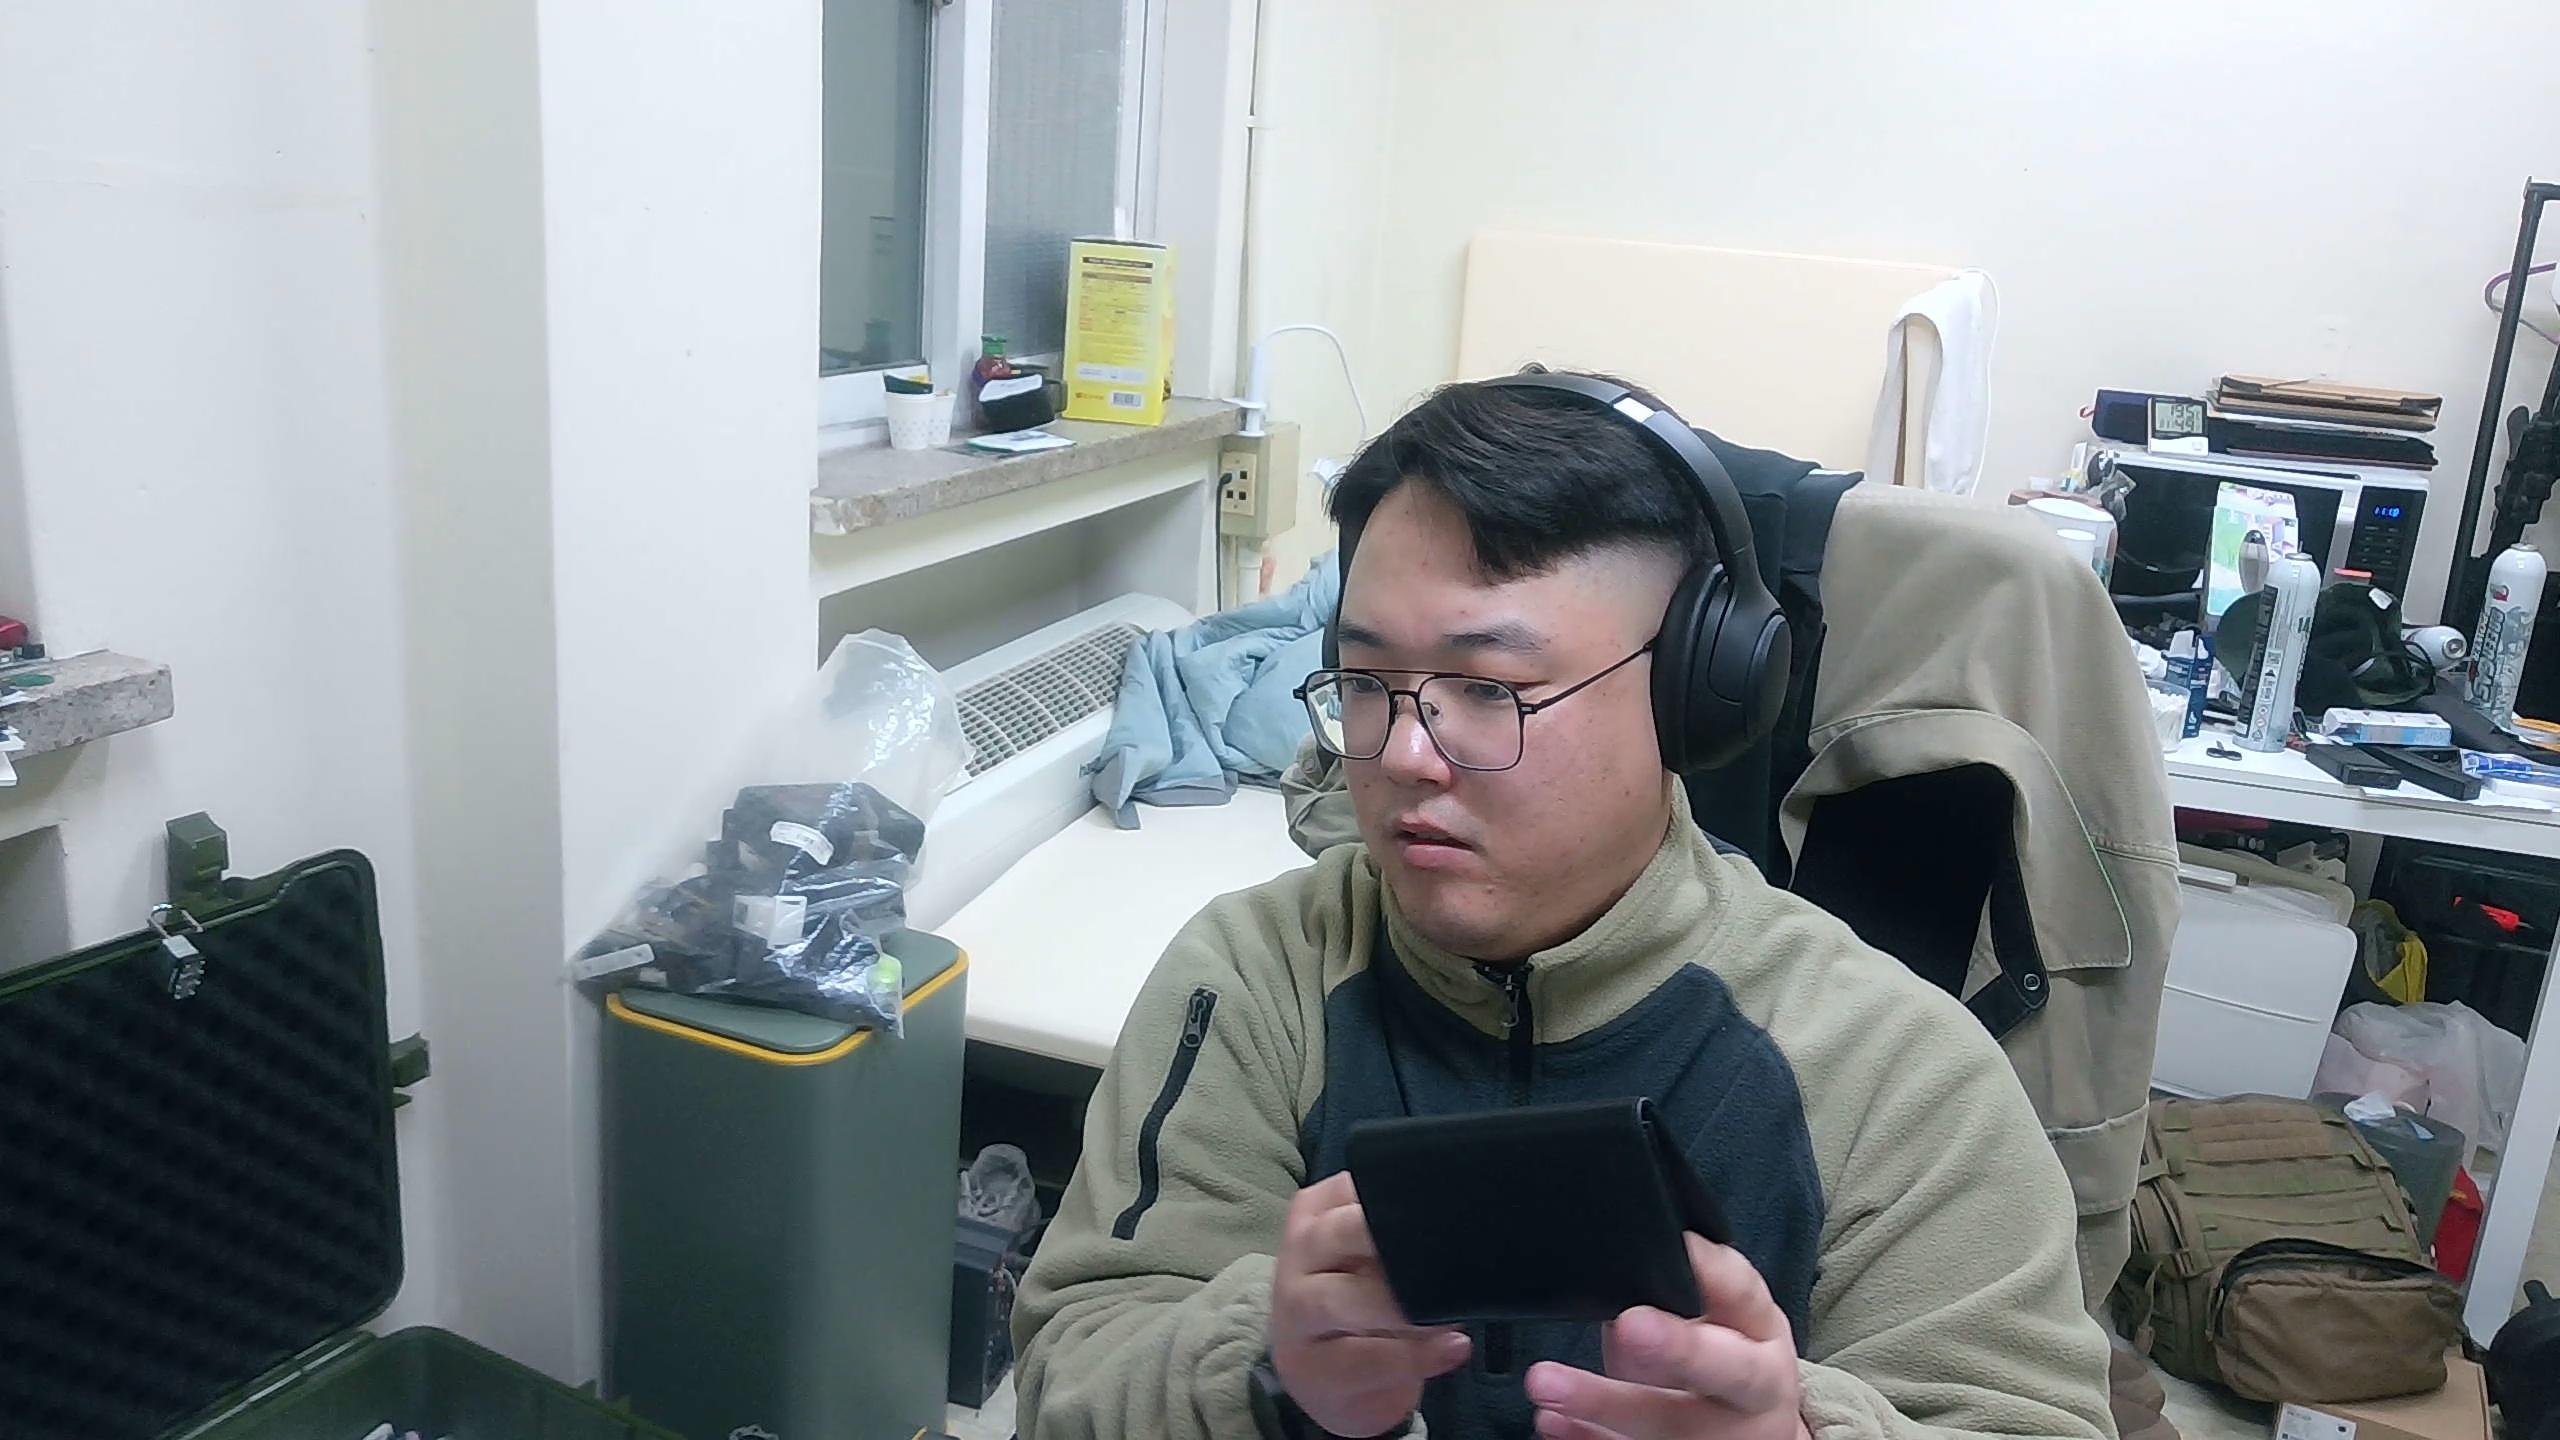earphone: (1340, 1092, 1737, 1333)
